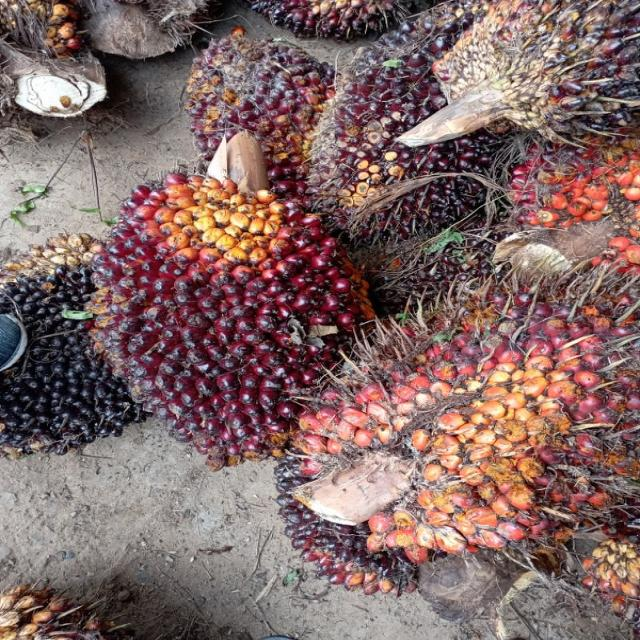fraksi 3: (294, 255, 640, 609)
